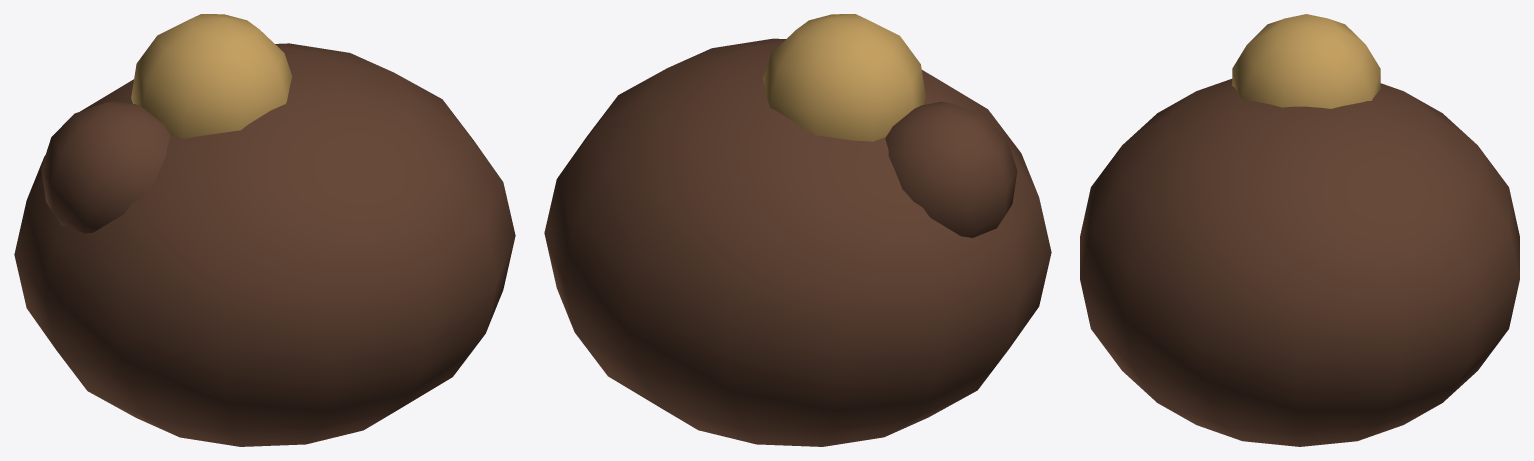
Rendered from ponytail_hair.glb.
The picture shows the model from 3 angles, left to right: view 1: azimuth 30°, elevation 25°; view 2: azimuth 150°, elevation 25°; view 3: azimuth 270°, elevation 25°; orthographic projection. The views are drawn at different scales.
Parts seen in each view (by area): view 1: hair_cap, hair_detail_2, hair_detail_1; view 2: hair_cap, hair_detail_2, hair_detail_1; view 3: hair_cap, hair_detail_2.
Boxes of the visible parts, x1,y1,x2,y2 form: hair_cap: (14, 43, 515, 446); hair_detail_2: (131, 14, 292, 138); hair_detail_1: (41, 100, 170, 233); hair_cap: (544, 38, 1051, 446); hair_detail_2: (763, 14, 926, 141); hair_detail_1: (885, 101, 1017, 237); hair_cap: (1080, 79, 1519, 446); hair_detail_2: (1232, 14, 1380, 108).
Bounding box in the file's own units: 0.728 × 0.6448 × 0.6824.
